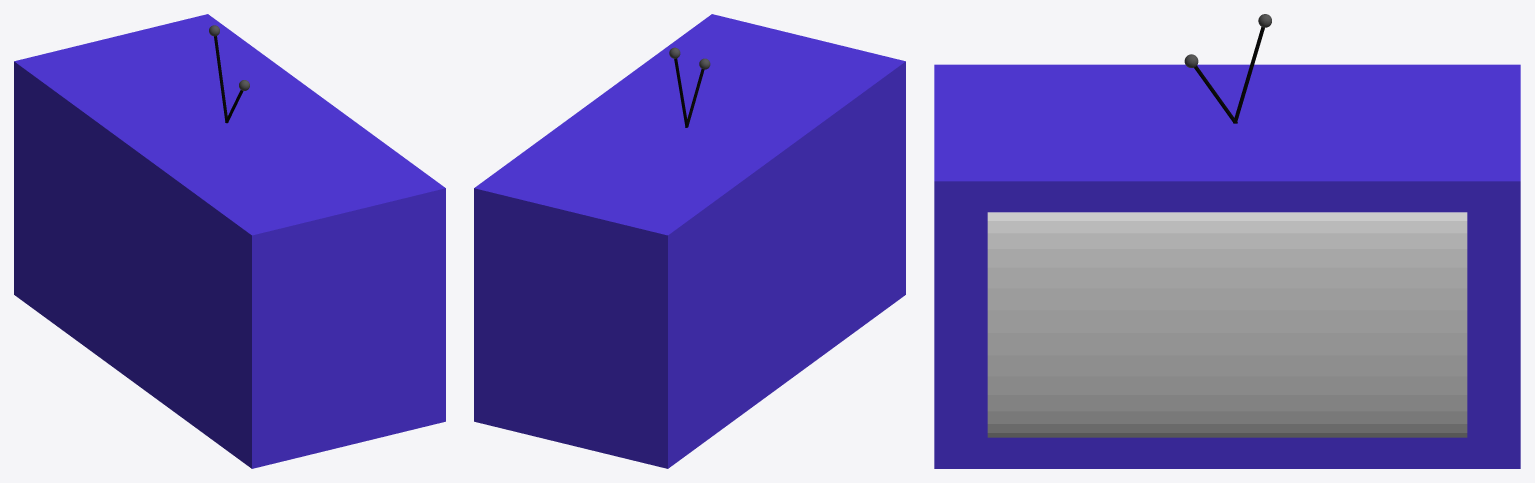
Rendered from Tele3.fbx.
3 renders of one model, left to right at view 1: azimuth 30°, elevation 25°; view 2: azimuth 150°, elevation 25°; view 3: azimuth 270°, elevation 25°, orthographic. The views are drawn at different scales.
Parts seen in each view (by area): view 1: Cubo.001; view 2: Cubo.001; view 3: Cubo.001, Cilindro.
Part boxes in pixels (bbox=[...]): Cubo.001: bbox=[14, 14, 445, 468]; Cubo.001: bbox=[474, 14, 905, 468]; Cubo.001: bbox=[934, 64, 1520, 468]; Cilindro: bbox=[987, 212, 1467, 437].
Bounding box in the file's own units: 214 × 317 × 425.
